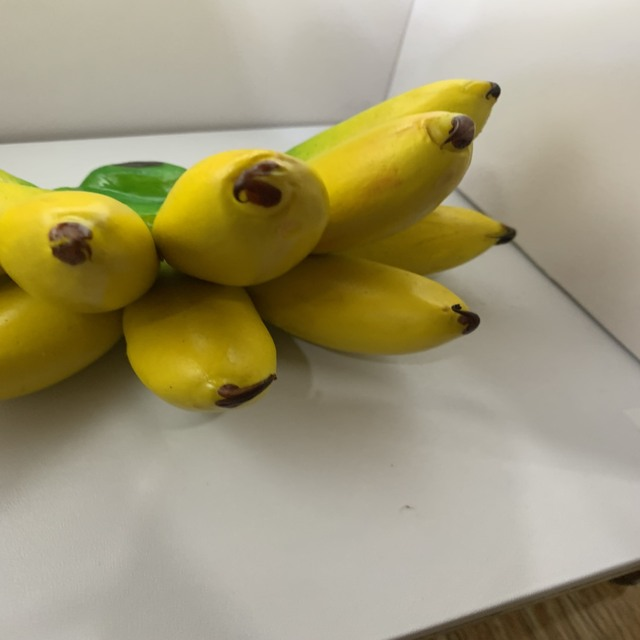Chuoi: (0, 73, 518, 416)
